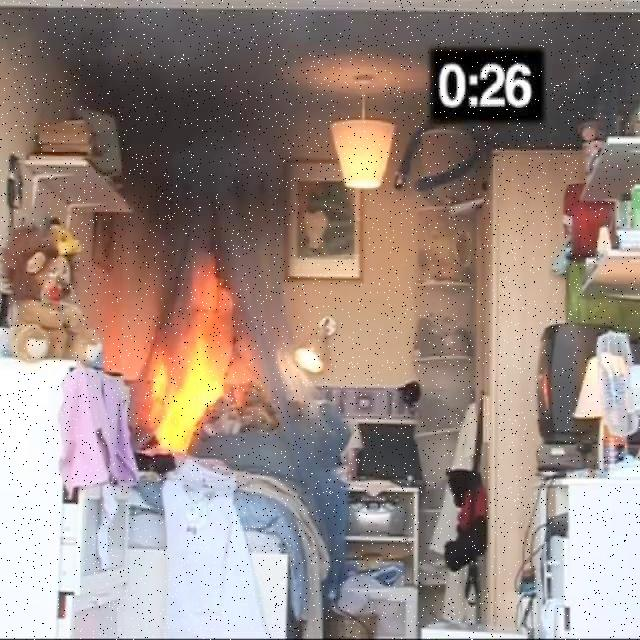fire: (137, 263, 260, 462)
light: (322, 113, 400, 202)
smoke: (78, 21, 298, 172)
